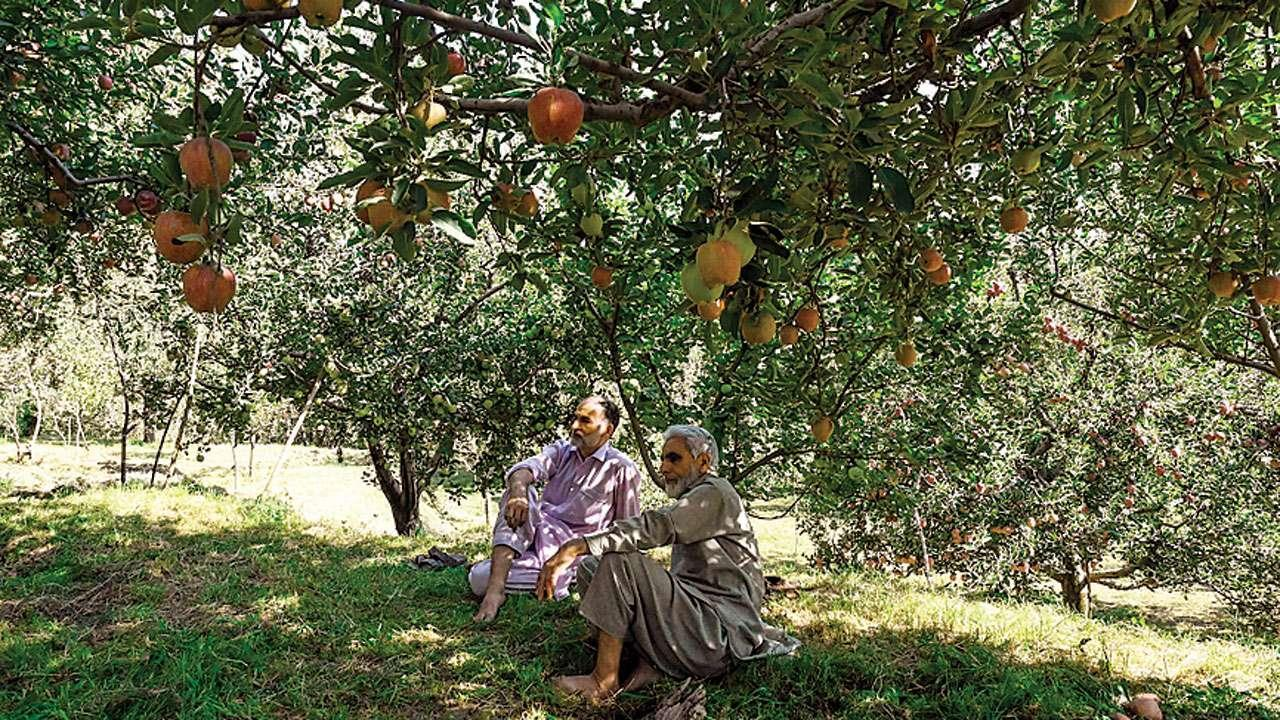apple: (527, 87, 581, 143), (179, 135, 233, 190), (155, 209, 208, 265), (182, 263, 235, 314), (696, 239, 740, 287)
